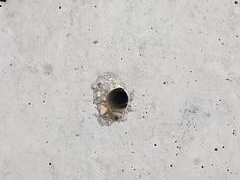Spalling: (90, 72, 134, 127)
